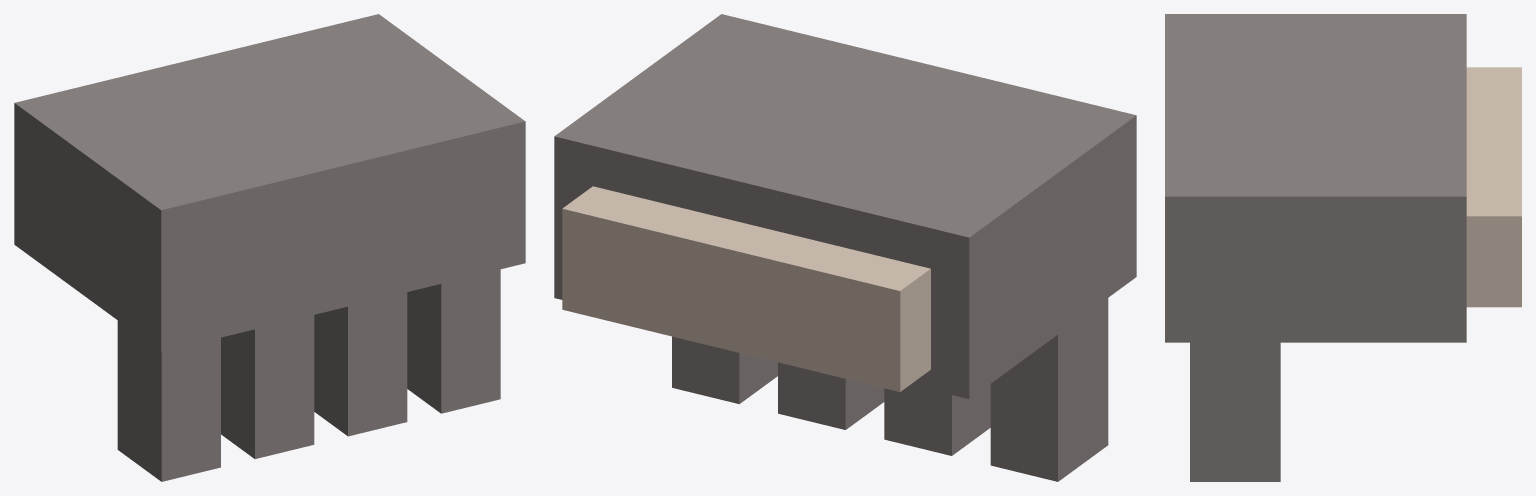
Rendered from inf_possum_hand.fbx.
3 views of the same model, side by side, from view 1: azimuth 30°, elevation 25°; view 2: azimuth 150°, elevation 25°; view 3: azimuth 270°, elevation 25° (orthographic). The views are drawn at different scales.
Parts seen in each view (by area): view 1: inf_possum_hand; view 2: inf_possum_hand; view 3: inf_possum_hand.
Part boxes in pixels (x1=…): inf_possum_hand: x1=14, y1=14, x2=525, y2=481; inf_possum_hand: x1=554, y1=14, x2=1136, y2=481; inf_possum_hand: x1=1165, y1=14, x2=1521, y2=481.
Bounding box in the file's own units: 86 × 64 × 71.
